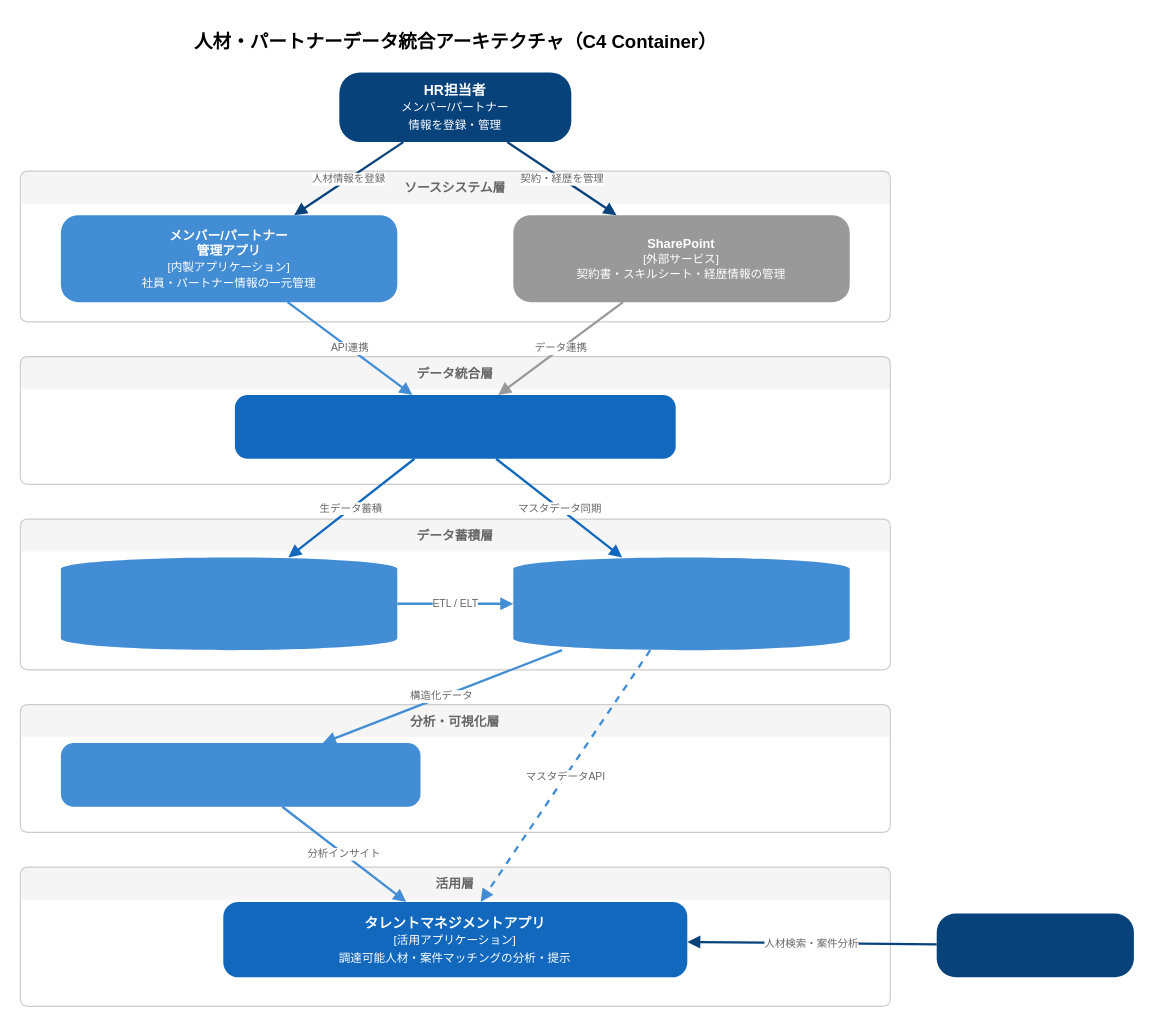
The diagram is 1154 pixels wide and 1027 high, and some of its shapes have lost their labels. The centre of each missing label's shape, as x and y in pixels:
"BIツール [分析プラットフォーム] 人材稼働率・スキル分布等の可視化" belongs at (240,774).
"DWH [データウェアハウス] 構造化・集約データの蓄積" belongs at (681,603).
"MDM [マスタデータ管理] 名寄せ・クレンジング・ゴールデンレコード生成" belongs at (454,426).
"PM / リソース管理者 人材調達・案件 マッチング" belongs at (1034,945).
"データレイク [ストレージ] 生データ・履歴データの蓄積" belongs at (228,603).
